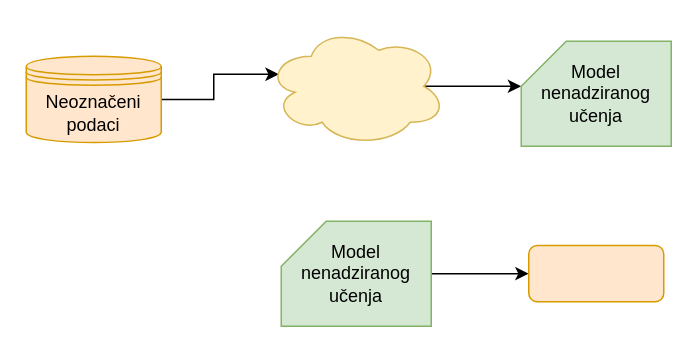
Some shapes in this 698 by 353 pixel diagram are drawn without their labels. Here are the shapes that lost their labels. From the top down, the centre of each, then its label:
the point at 355,85: Treniranje modela
the point at 595,273: Izlaz modela
